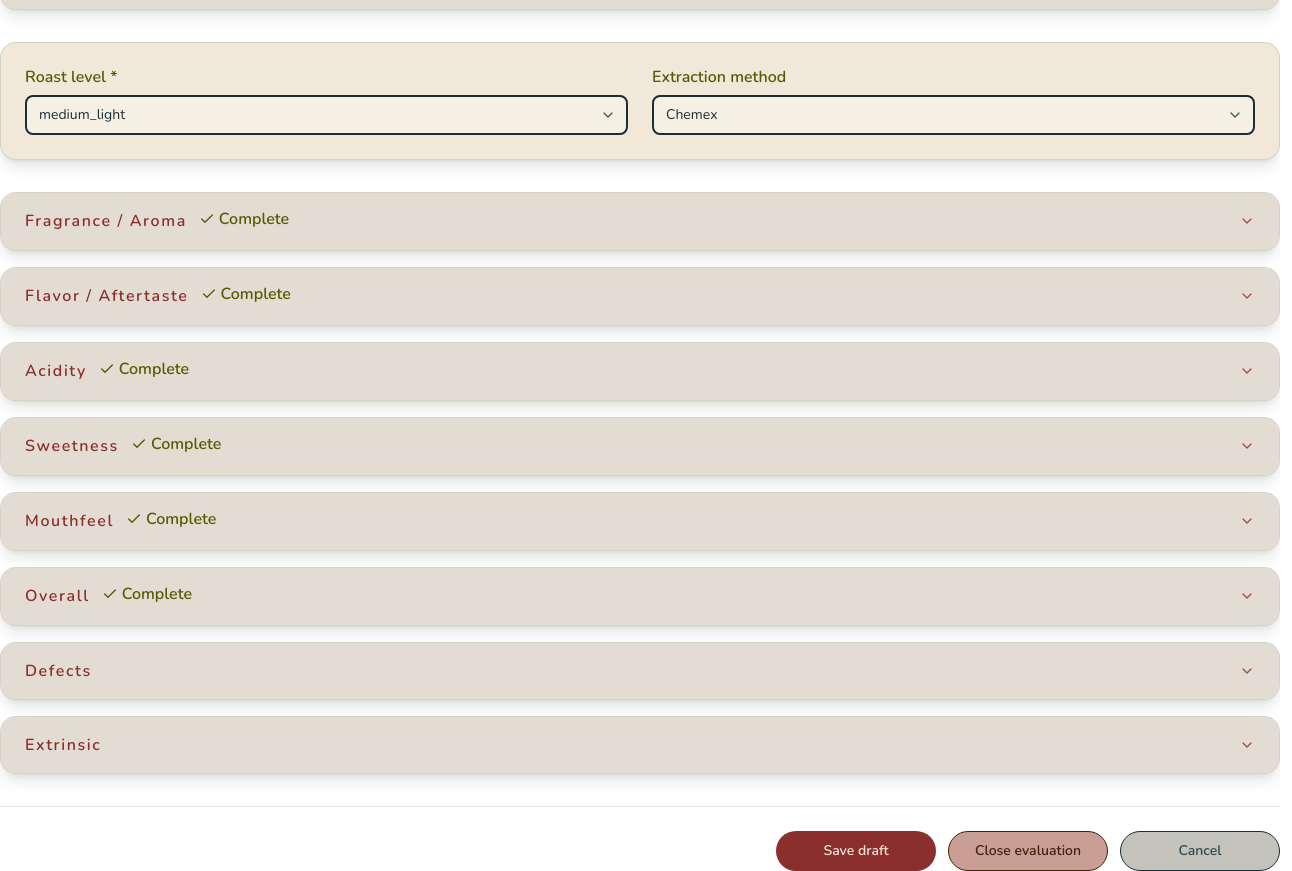
EvaluationForm: closing (design.md D4, D10; tasks 7.1) › does not close when the save fails
The image size is (1292, 871).
(page scrolled)
Click the button "Close evaluation" at (1028, 850), box [948, 830, 1108, 870]
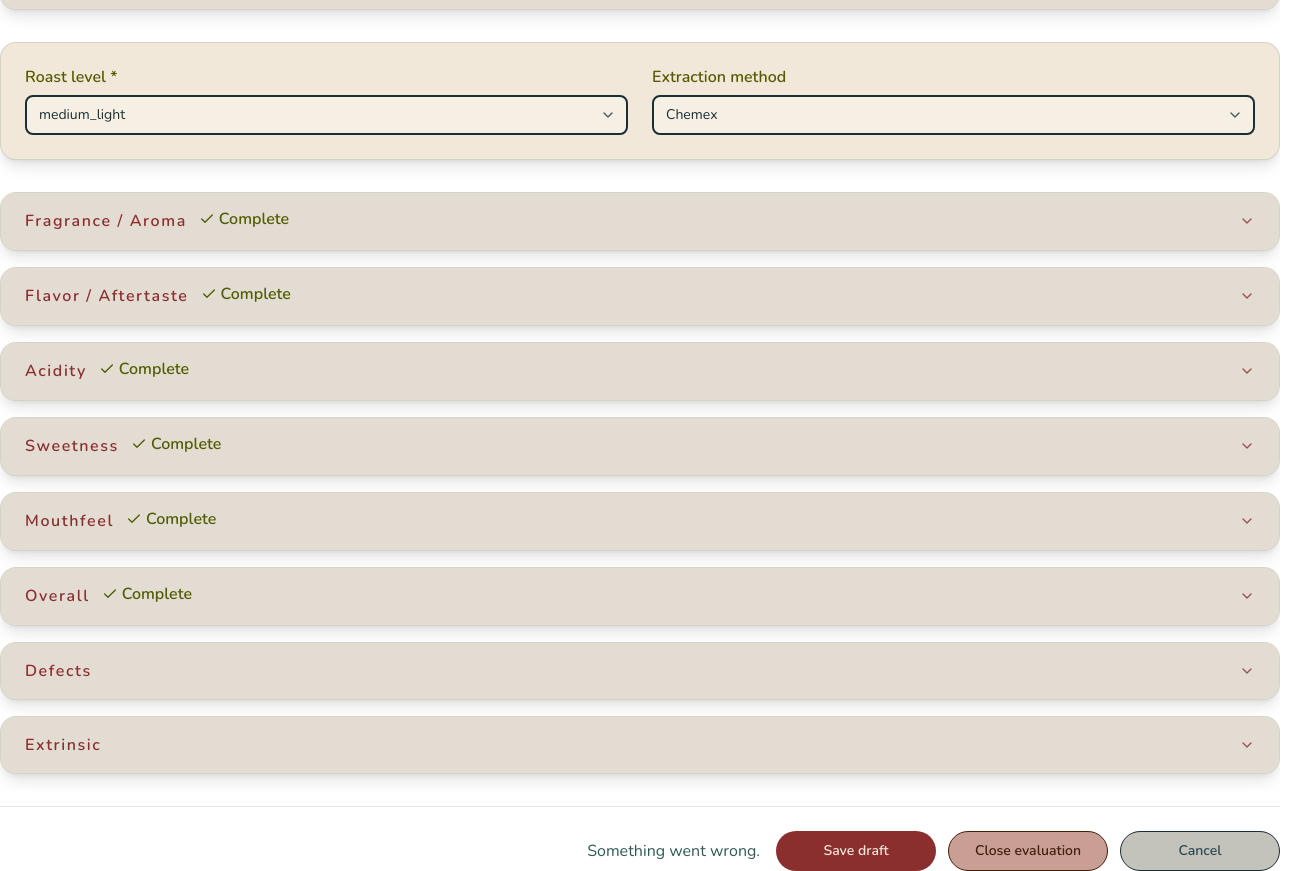
Now the message reads "Something went wrong.", box [587, 840, 760, 862]
